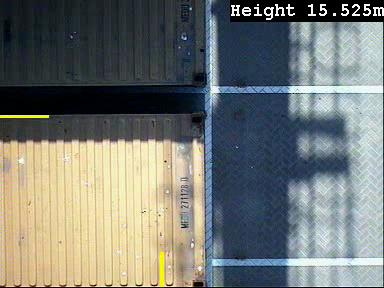groundmarker_2: (19, 141, 102, 252)
